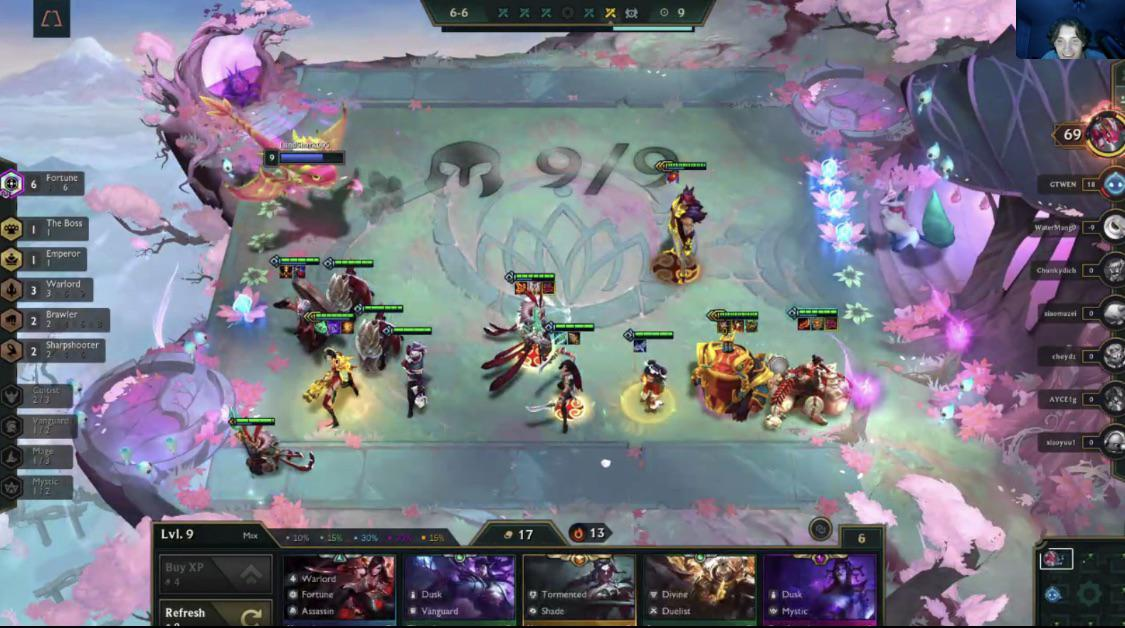1star_azir: (220, 410, 323, 485)
2star_annie: (613, 321, 687, 437)
2star_azir: (471, 261, 566, 397)
2star_azirsoldier: (348, 298, 409, 382), (320, 253, 381, 337)
2star_jhin: (377, 322, 439, 424)
2star_katarina: (523, 315, 601, 443)
2star_sejuani: (759, 299, 858, 435)
2star_zilean: (258, 248, 342, 364)
3star_jinx: (295, 303, 369, 443)
3star_sett: (642, 155, 718, 293)
3star_tahmkench: (682, 299, 782, 430)
item_deathblade: (513, 278, 529, 297)
item_duelist: (278, 264, 295, 280)
item_ga: (526, 279, 543, 297)
item_guinsoo: (794, 316, 813, 332)
item_gunblade: (551, 328, 568, 346)
item_hoj: (340, 319, 356, 338)
item_ie: (566, 330, 583, 348)
item_locket: (809, 314, 826, 332)
item_luden: (327, 317, 343, 336)
item_shojin: (313, 318, 329, 337)
item_shroud: (291, 263, 308, 279)
item_spark: (632, 336, 649, 354)
item_sunfire: (730, 316, 747, 334)
item_thief: (540, 277, 557, 296), (825, 315, 840, 330)
item_titan: (716, 316, 733, 334)
item_warmogs: (743, 317, 760, 335), (664, 168, 681, 186)
trait_brawler2: (1, 305, 117, 336)
trait_cultist2: (1, 381, 117, 412)
trait_emperor1: (1, 243, 117, 274)
trait_fortune6: (1, 166, 117, 201)
trait_fortune_chosen: (1, 166, 28, 202)
trait_mage1: (1, 441, 117, 472)
trait_mystic1: (1, 471, 117, 502)
trait_sharpshooter2: (1, 334, 117, 365)
trait_theboss1: (1, 214, 117, 245)
trait_vanguard1: (1, 410, 117, 441)
trait_warlord3: (1, 274, 117, 305)
